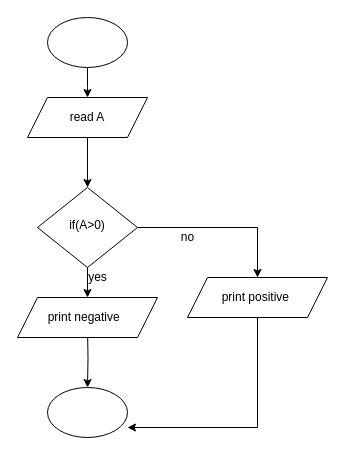
This 345x455 diagram has some shape labels left out. The box of each missing label's shape, as (x1, y1, x2, y2) in pixels:
START: (46, 16, 128, 68)
STOP: (46, 386, 128, 438)
